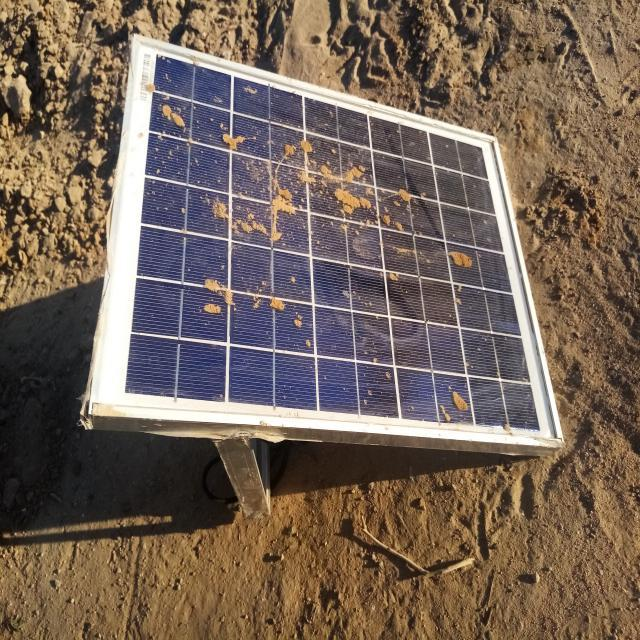faulty: (91, 39, 562, 441)
